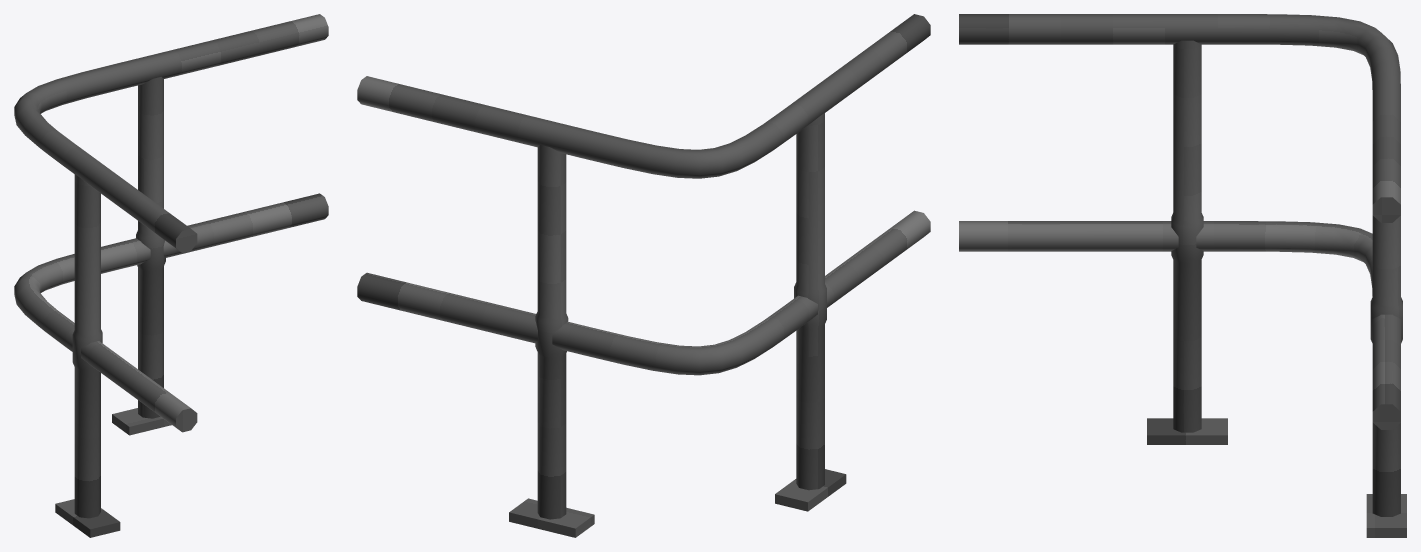
File: railing_bend.obj
3 renders of one model, left to right at view 1: azimuth 30°, elevation 25°; view 2: azimuth 150°, elevation 25°; view 3: azimuth 270°, elevation 25°, orthographic. The views are drawn at different scales.
Parts seen in each view (by area): view 1: railbend; view 2: railbend; view 3: railbend.
Boxes of the visible parts, bbox=[...] form: railbend: bbox=[14, 14, 328, 537]; railbend: bbox=[357, 14, 930, 537]; railbend: bbox=[959, 14, 1406, 537].
Size of the model in its own units: 0.9805 by 1.01 by 0.9805.
